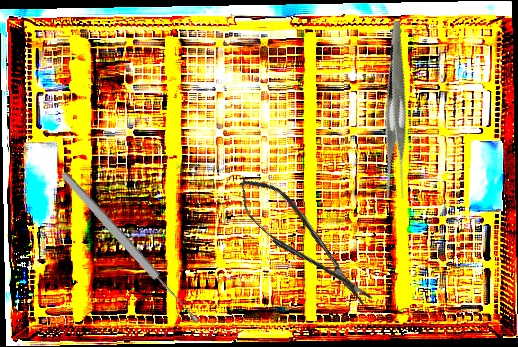Dressing Forceps: (338, 20, 458, 203)
Micro Scissor: (228, 165, 380, 321)
Surgical Spoon: (57, 168, 203, 328)
